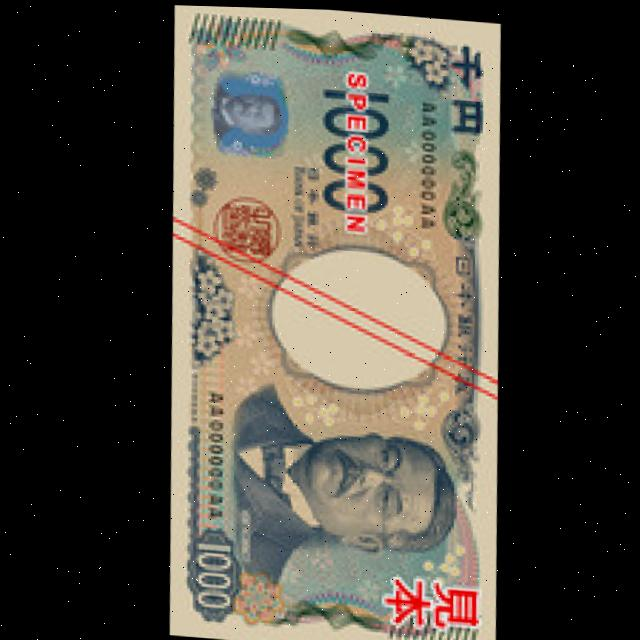banknote: (141, 3, 524, 640)
